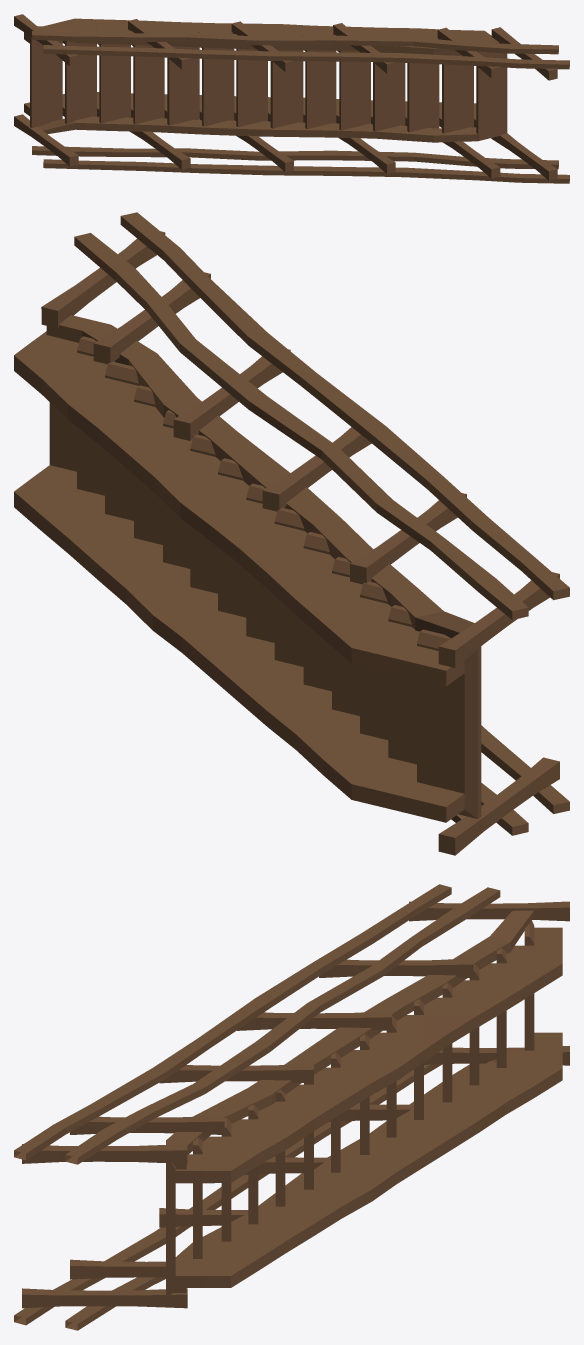
The model's file is Stair_05.fbx.
The picture shows the model from 3 angles, top to bottom: view 1: azimuth 30°, elevation 25°; view 2: azimuth 150°, elevation 25°; view 3: azimuth 270°, elevation 25°; orthographic projection. The views are drawn at different scales.
Visible parts, largest first — view 1: escaliers vide; view 2: escaliers vide; view 3: escaliers vide.
Boxes of the visible parts, x1=… form: escaliers vide: x1=14, y1=14, x2=569, y2=183; escaliers vide: x1=14, y1=212, x2=569, y2=855; escaliers vide: x1=14, y1=884, x2=569, y2=1330.
Size of the model in its own units: 425 by 125 by 364.
